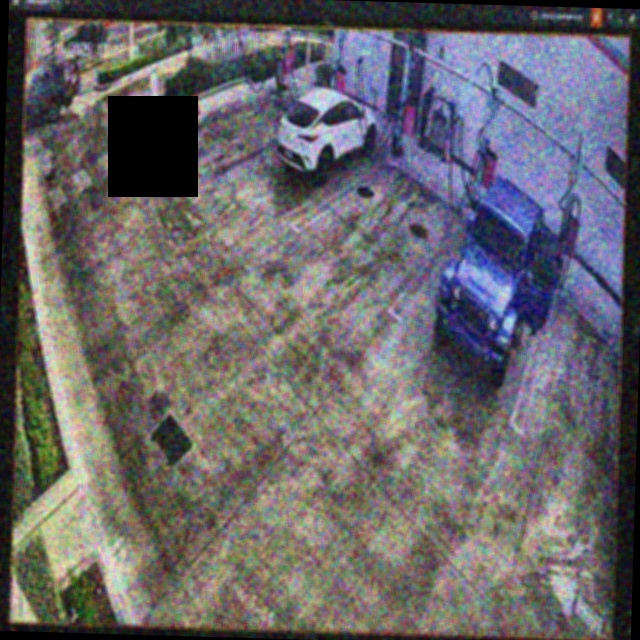Car: (434, 174, 563, 382), (279, 81, 377, 184)
